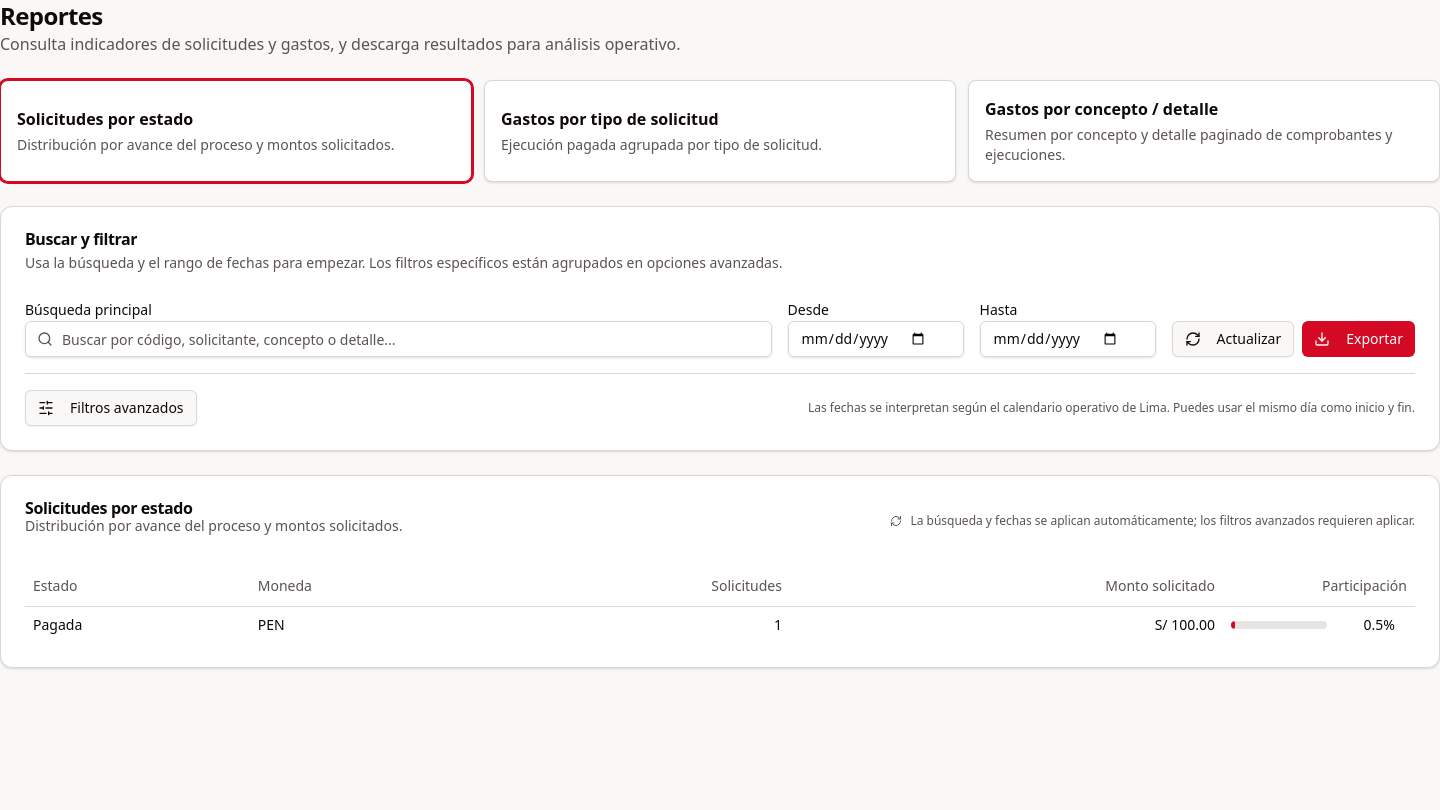
Scenario: ReportsPageView › mantiene los filtros avanzados en borrador hasta presionar aplicar
The image size is (1440, 810).
Click the button with test id "advanced-filters-toggle": (111, 408) [25,390,197,426]
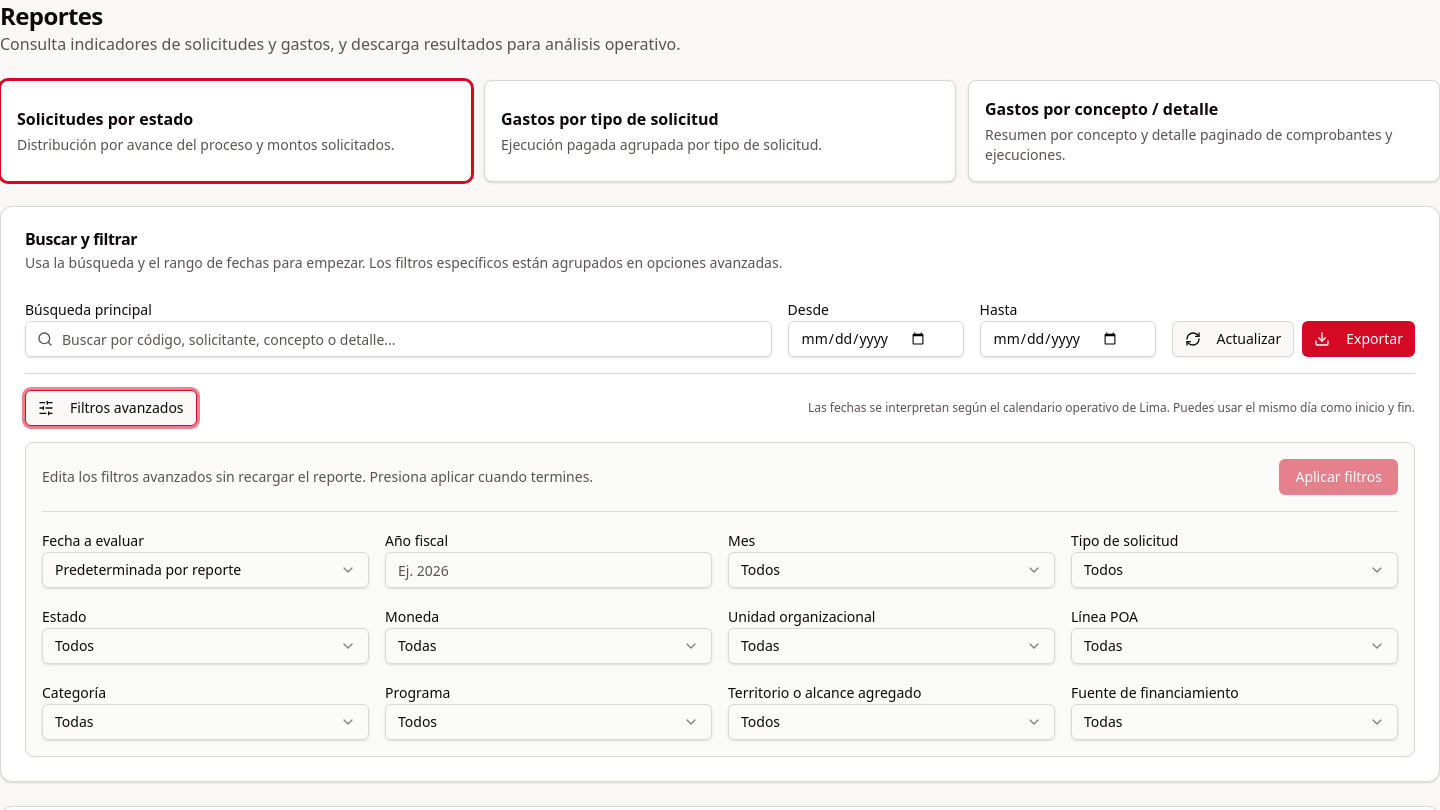
In the field labelled "Año fiscal": (548, 570) [385,552,712,588], type "2026"
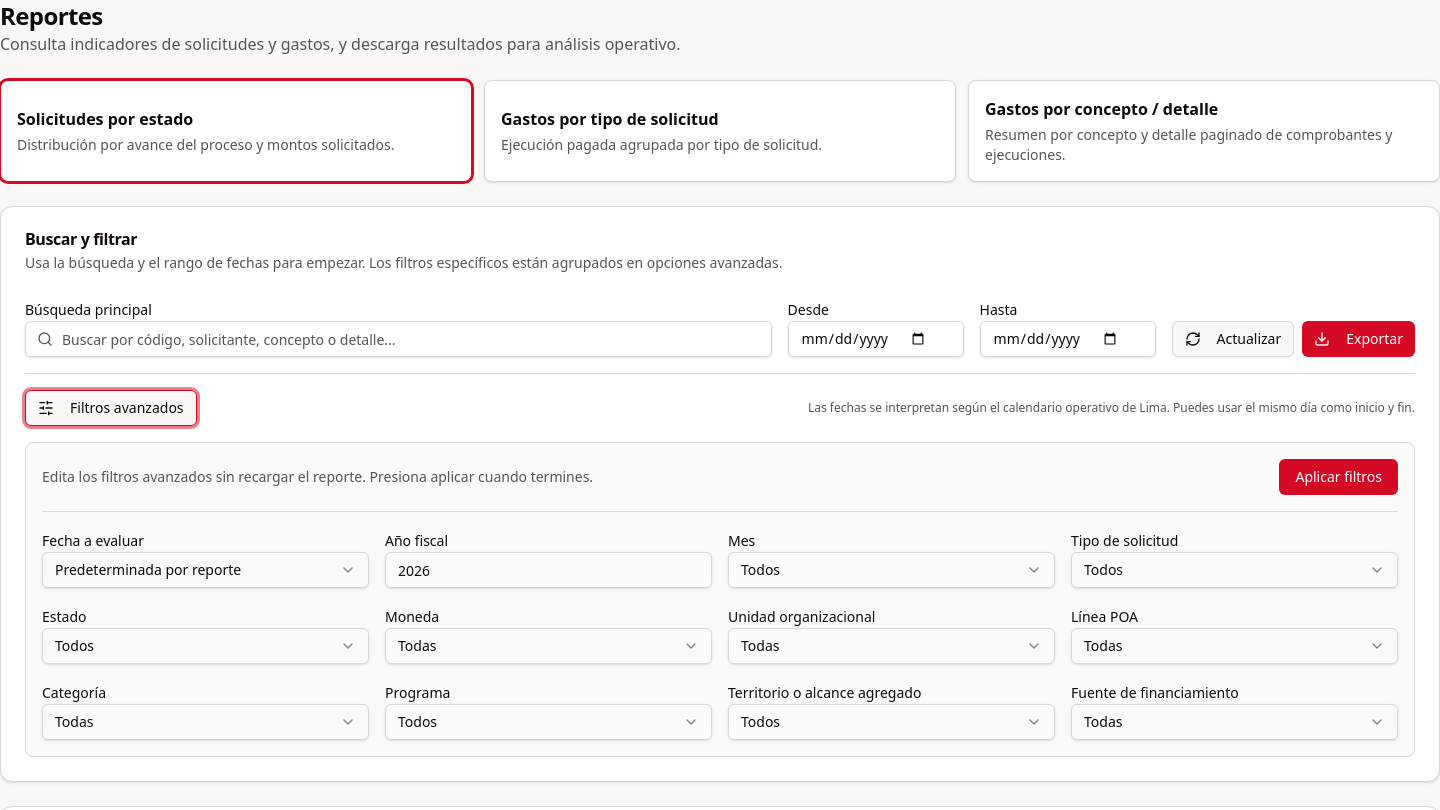
Expected: the text "Año fiscal: 2026" is not shown
Click the button with test id "apply-advanced-filters": (1339, 477) [1279,459,1398,495]
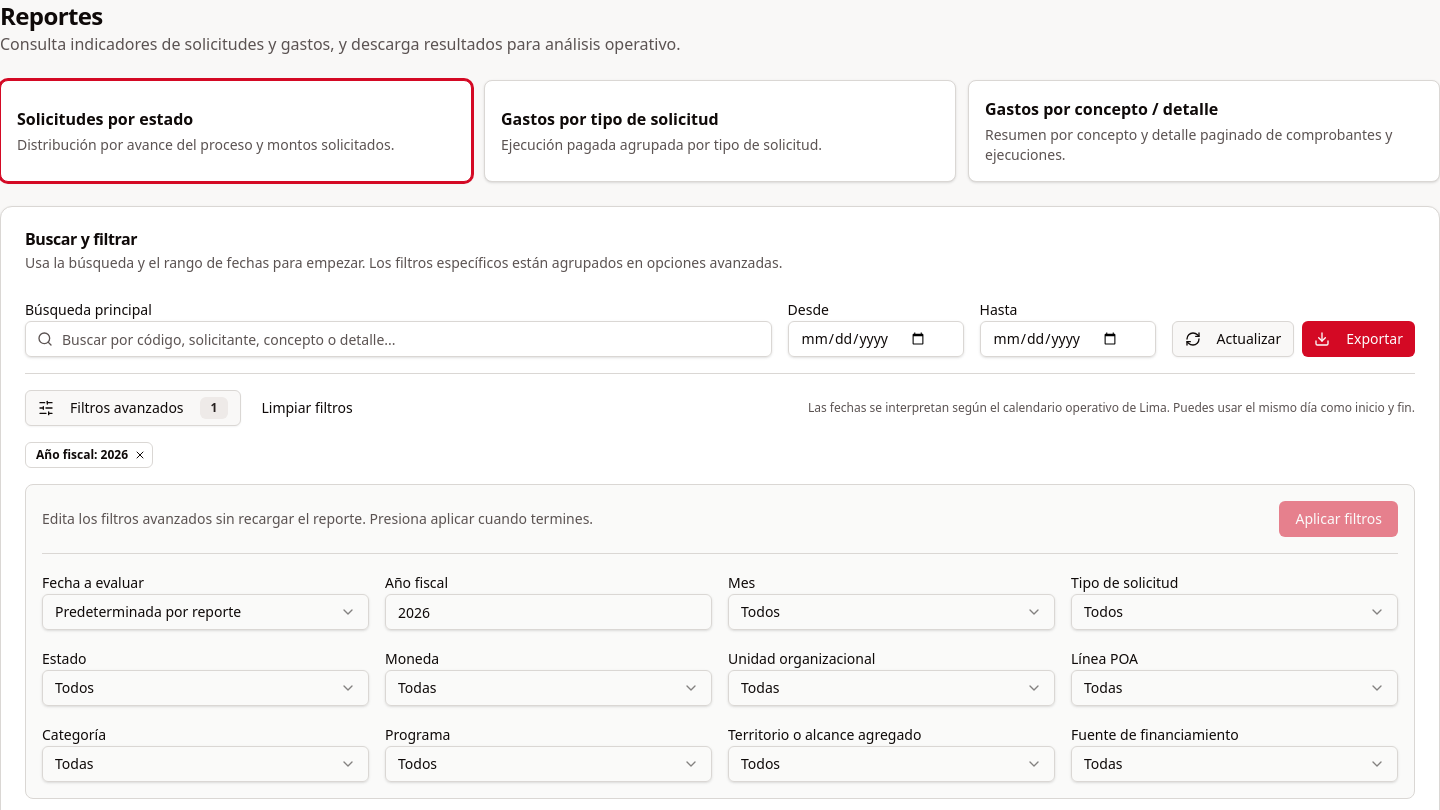
Now the text "Año fiscal: 2026" is shown, box [25,442,153,468]
